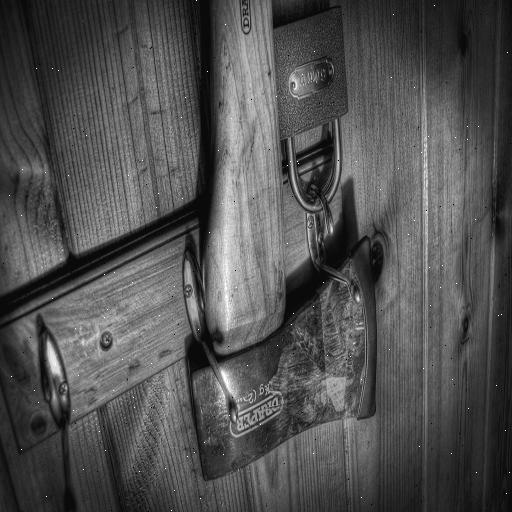Axe: (182, 1, 380, 480)
